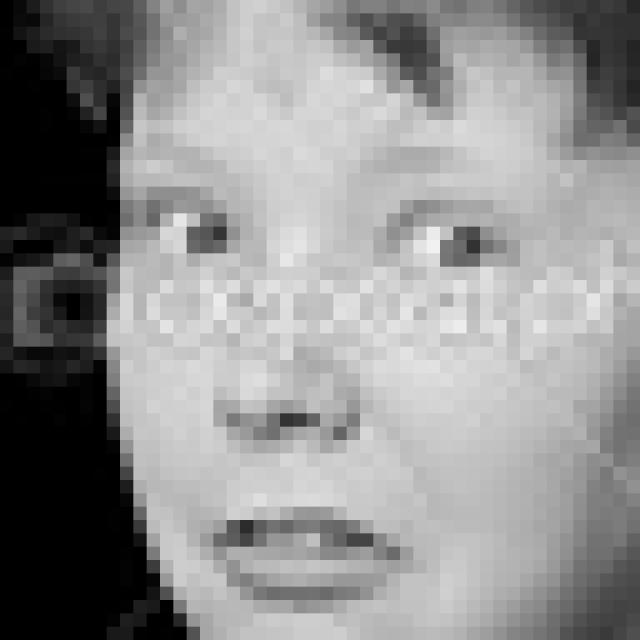disgust: (123, 130, 575, 614)
